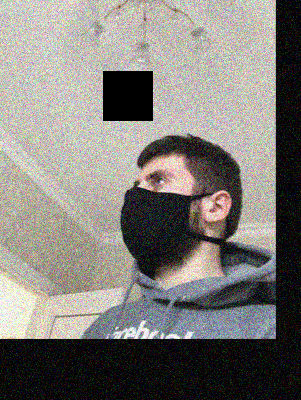with_mask: (120, 166, 197, 266)
